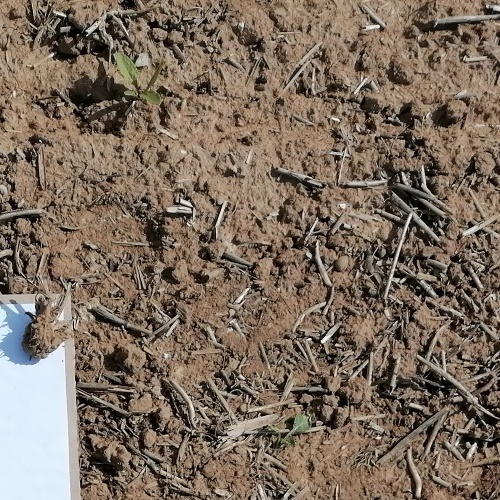beet: (115, 54, 168, 108)
